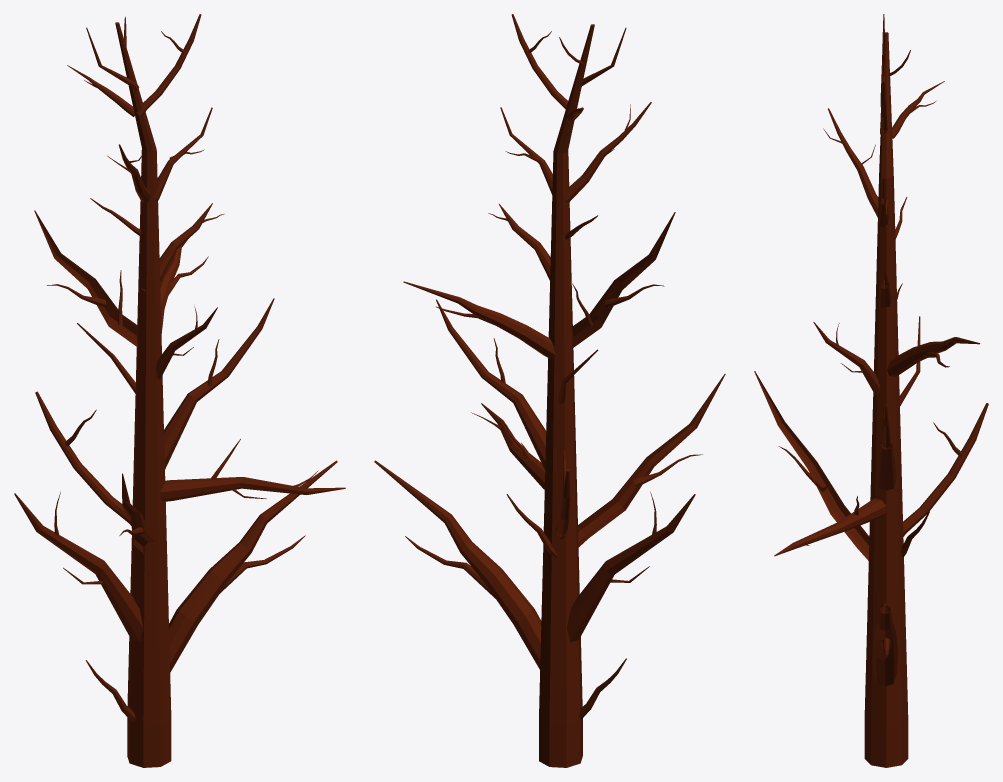
The model's file is dead tree.obj.
The picture shows the model from 3 angles, left to right: view 1: azimuth 30°, elevation 25°; view 2: azimuth 150°, elevation 25°; view 3: azimuth 270°, elevation 25°; orthographic projection. The views are drawn at different scales.
Visible parts, largest first — view 1: Cylinder; view 2: Cylinder; view 3: Cylinder.
Boxes of the visible parts, x1,y1,x2,y2 form: Cylinder: (14, 14, 345, 767); Cylinder: (374, 14, 725, 767); Cylinder: (754, 14, 988, 767).
Bounding box in the file's own units: 16.3 × 36.1 × 10.75.
